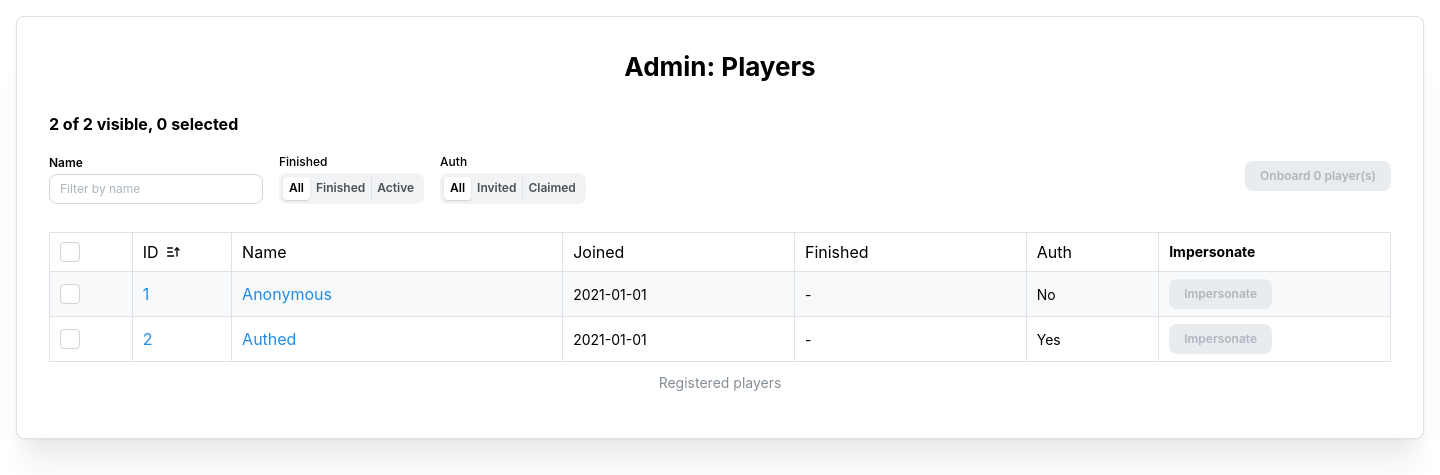
Test case: AdminPlayerList › tri-state filters › filters to only invited players when Invited is selected
Step 1. Click the radio button labelled "Invited" → (497, 188), box [477,180,516,195]
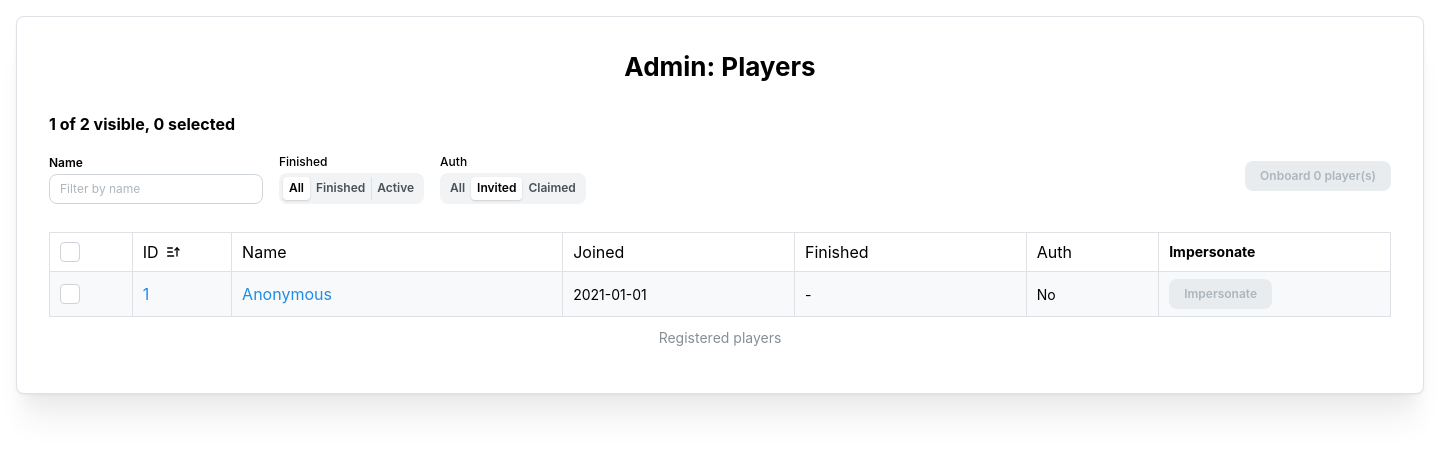
Expected: the link "Anonymous" is shown, [242,284,332,304]
Expected: the link "Authed" is gone
